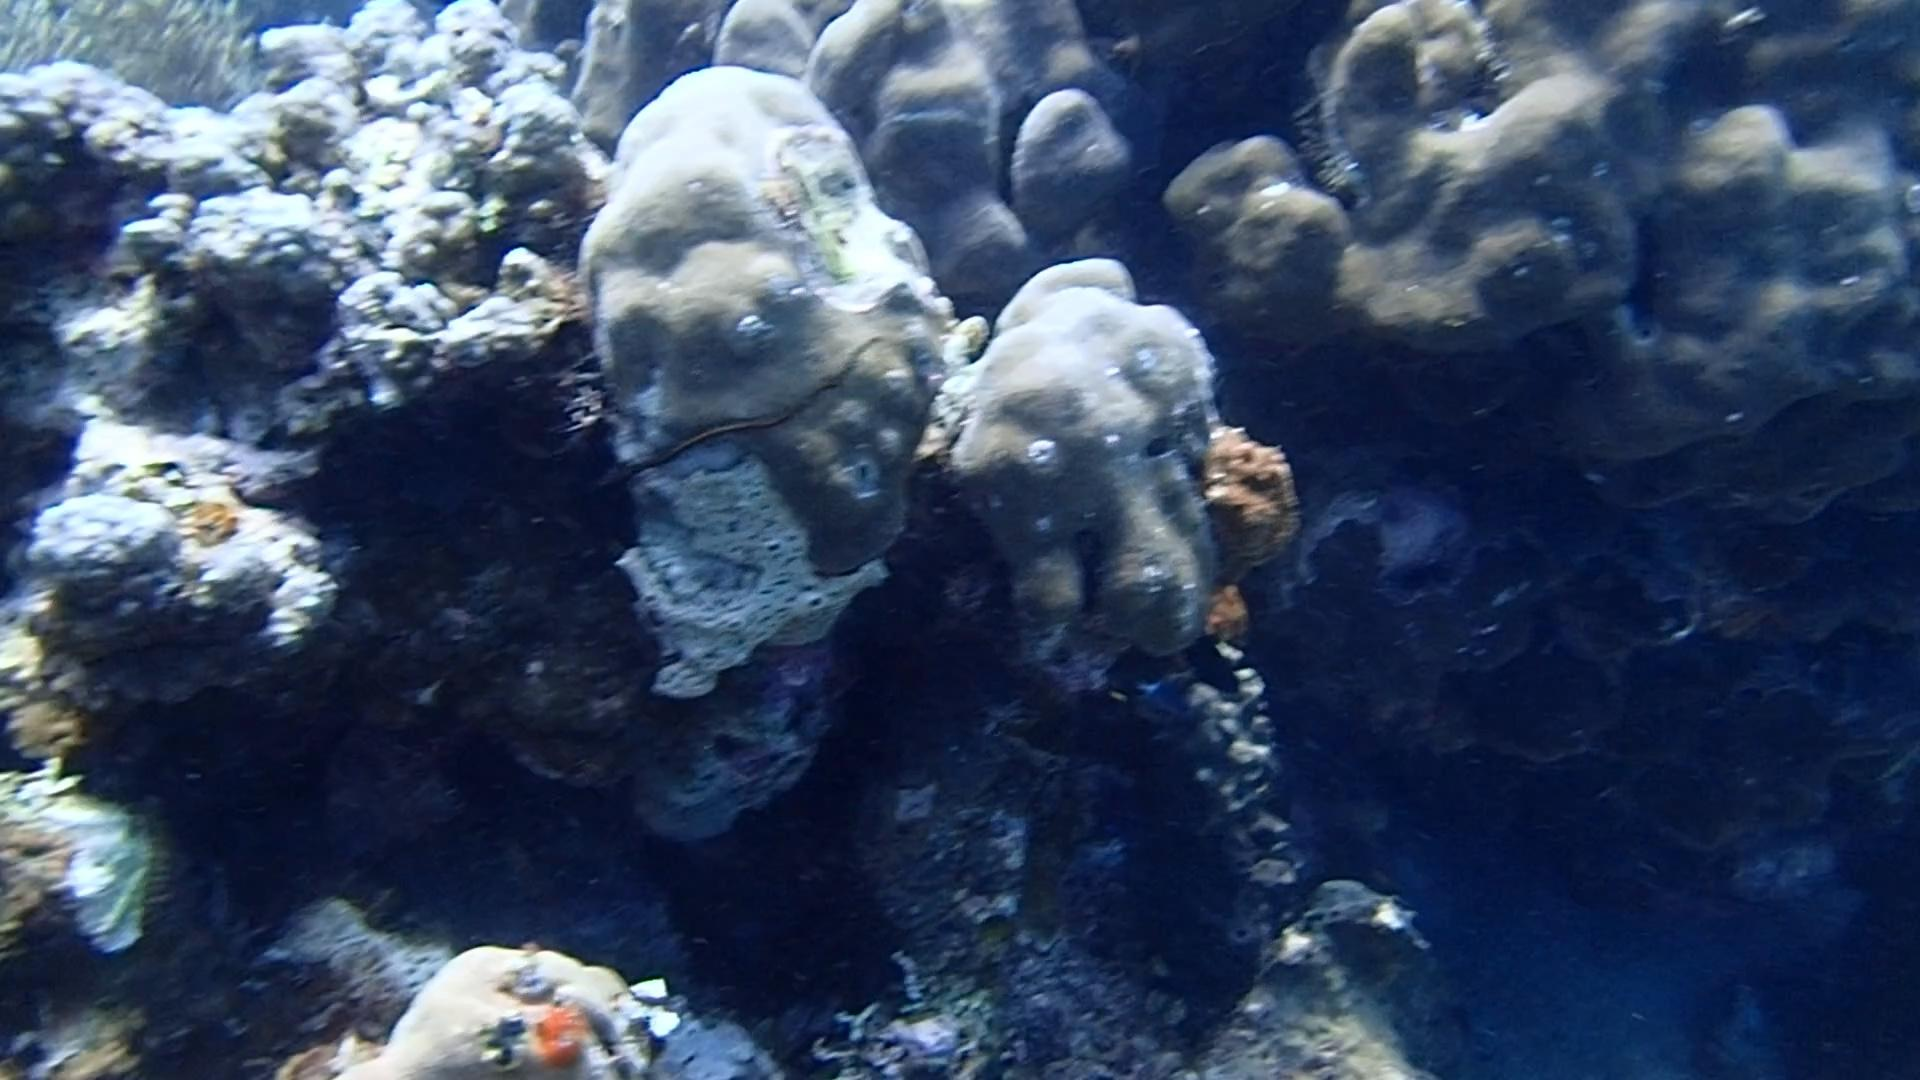Dark Fish: (1171, 621, 1259, 707)
